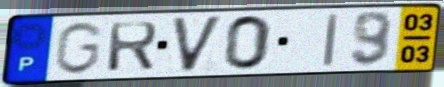0: (220, 14, 279, 72)
9: (349, 9, 392, 69)
G: (51, 20, 106, 77)
I: (320, 11, 342, 69)
R: (105, 19, 161, 74)
V: (169, 14, 227, 75)
